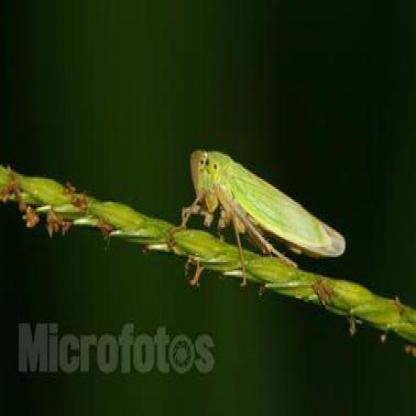Green-Leafhopper: (176, 144, 346, 280)
